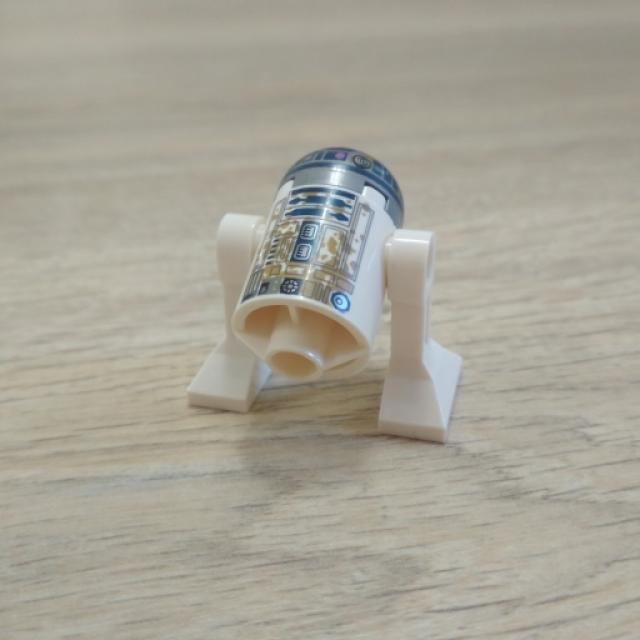Lego-Minifigures: (95, 107, 526, 468)
